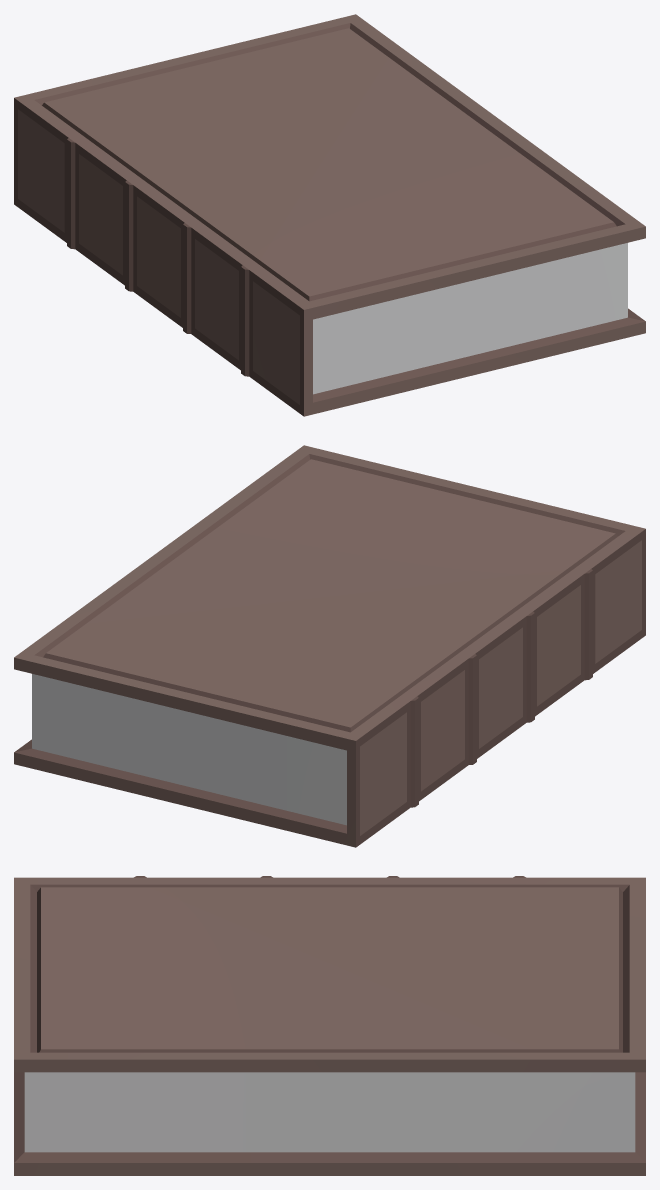
The model's file is SM_Props_Book_05.fbx.
3 views of the same model, one above another, from view 1: azimuth 30°, elevation 25°; view 2: azimuth 150°, elevation 25°; view 3: azimuth 270°, elevation 25° (orthographic). The views are drawn at different scales.
Visible parts, largest first — view 1: SM_Props_Book_05; view 2: SM_Props_Book_05; view 3: SM_Props_Book_05.
Boxes of the visible parts, x1,y1,x2,y2 form: SM_Props_Book_05: [14, 14, 645, 416]; SM_Props_Book_05: [14, 445, 645, 847]; SM_Props_Book_05: [14, 876, 645, 1175].
Size of the model in its own units: 0.1888 by 0.0558 by 0.2749.
